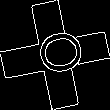O_W: (26, 29, 84, 81)
